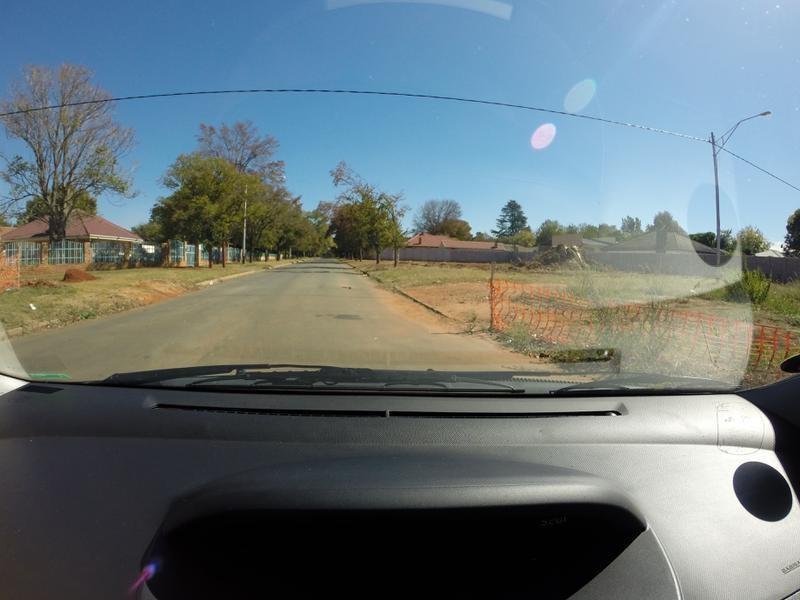pothole: (332, 278, 355, 301)
